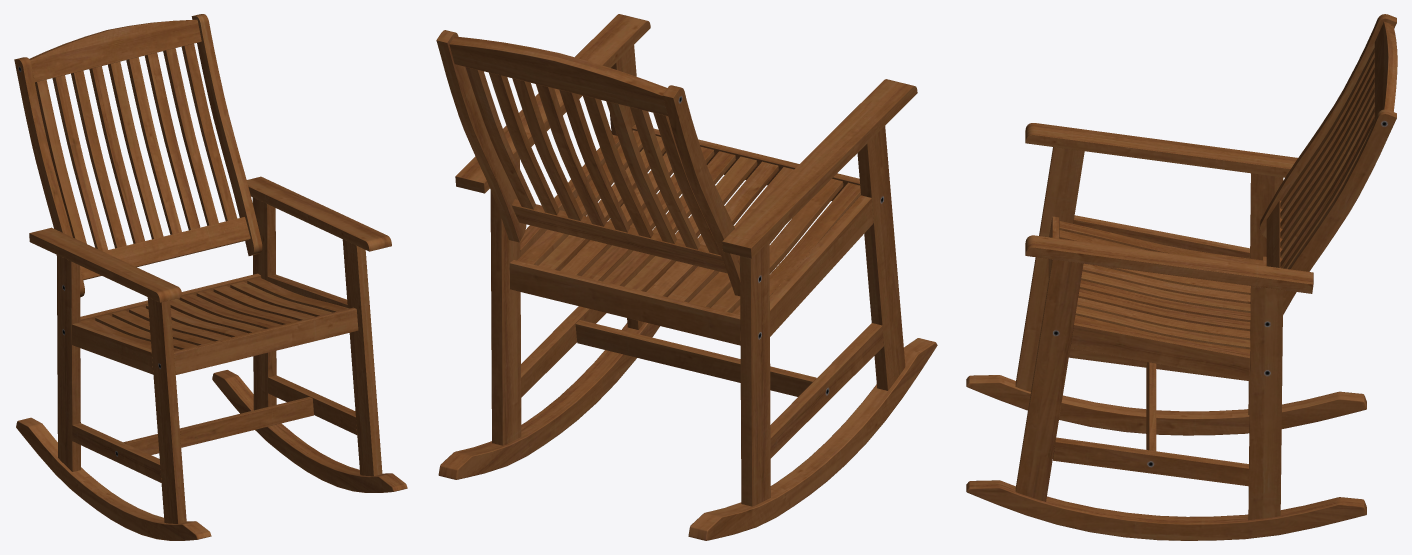
The model's file is chair_19.001.fbx.
3 renders of one model, left to right at view 1: azimuth 30°, elevation 25°; view 2: azimuth 150°, elevation 25°; view 3: azimuth 270°, elevation 25°, orthographic. The views are drawn at different scales.
Visible parts, largest first — view 1: chair_19.001; view 2: chair_19.001; view 3: chair_19.001.
Boxes of the visible parts, left/top/right/bottom form: chair_19.001: left=14, top=14, right=407, bottom=540; chair_19.001: left=436, top=14, right=937, bottom=540; chair_19.001: left=966, top=14, right=1397, bottom=540.
Size of the model in its own units: 62.76 by 100 by 91.73.
Materials: 1 (1 with a texture image).
